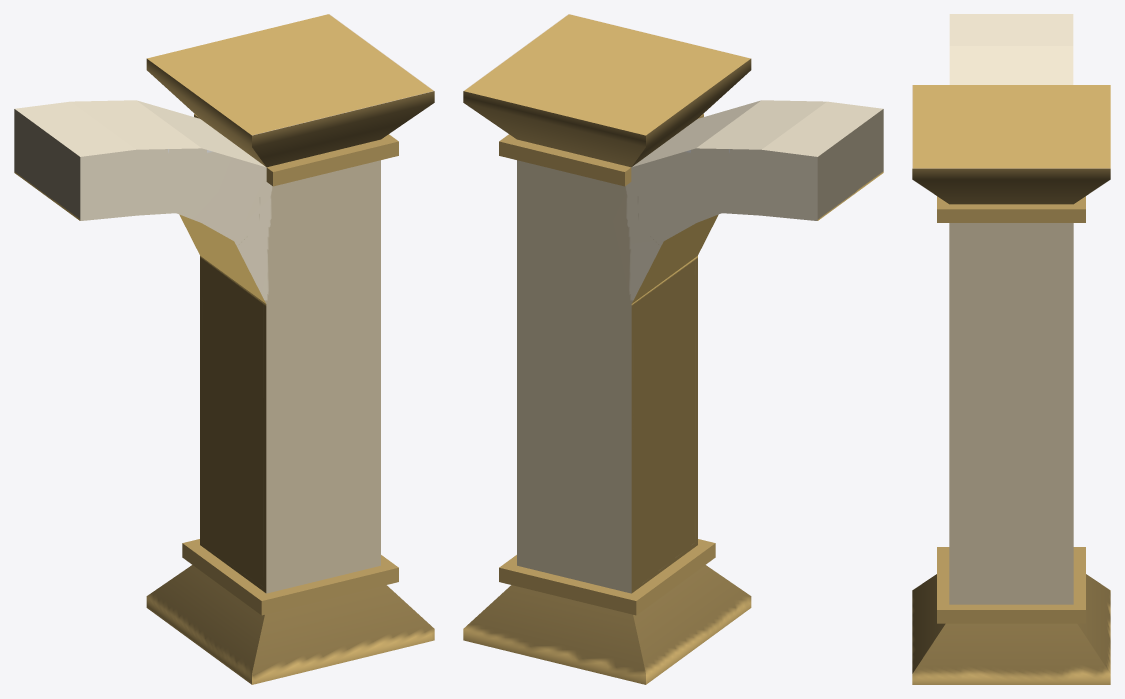
Rendered from arch.fbx.
3 renders of one model, left to right at view 1: azimuth 30°, elevation 25°; view 2: azimuth 150°, elevation 25°; view 3: azimuth 270°, elevation 25°, orthographic. The views are drawn at different scales.
Visible parts, largest first — view 1: pPipe5; view 2: pPipe5; view 3: pPipe5.
Boxes of the visible parts, x1=… form: pPipe5: x1=14, y1=14, x2=434, y2=684; pPipe5: x1=463, y1=14, x2=883, y2=684; pPipe5: x1=912, y1=14, x2=1110, y2=684.
Bounding box in the file's own units: 724 × 1138 × 395.
1 material, 1 textured.
